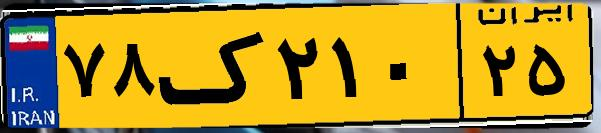0: (385, 28, 445, 110)
1: (330, 28, 385, 110)
2: (270, 28, 330, 110), (475, 38, 525, 113)
5: (525, 38, 570, 115)
7: (57, 26, 110, 100)
8: (110, 28, 158, 98)
ک: (158, 12, 270, 120)
